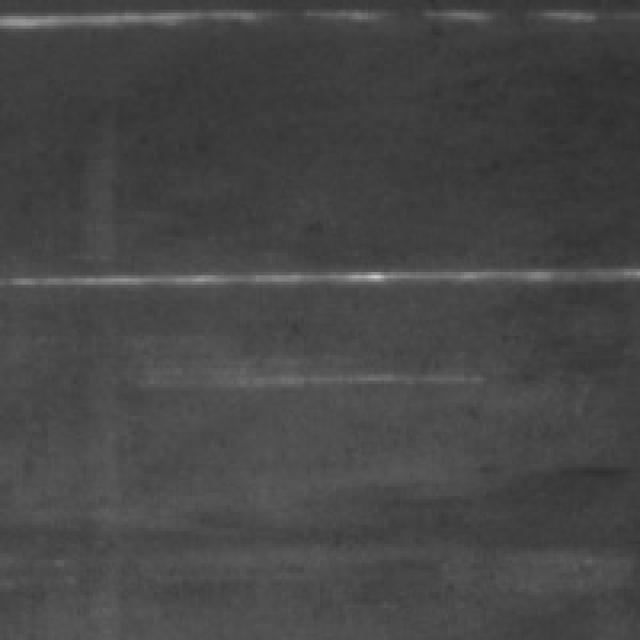scratches: (10, 249, 640, 297)
